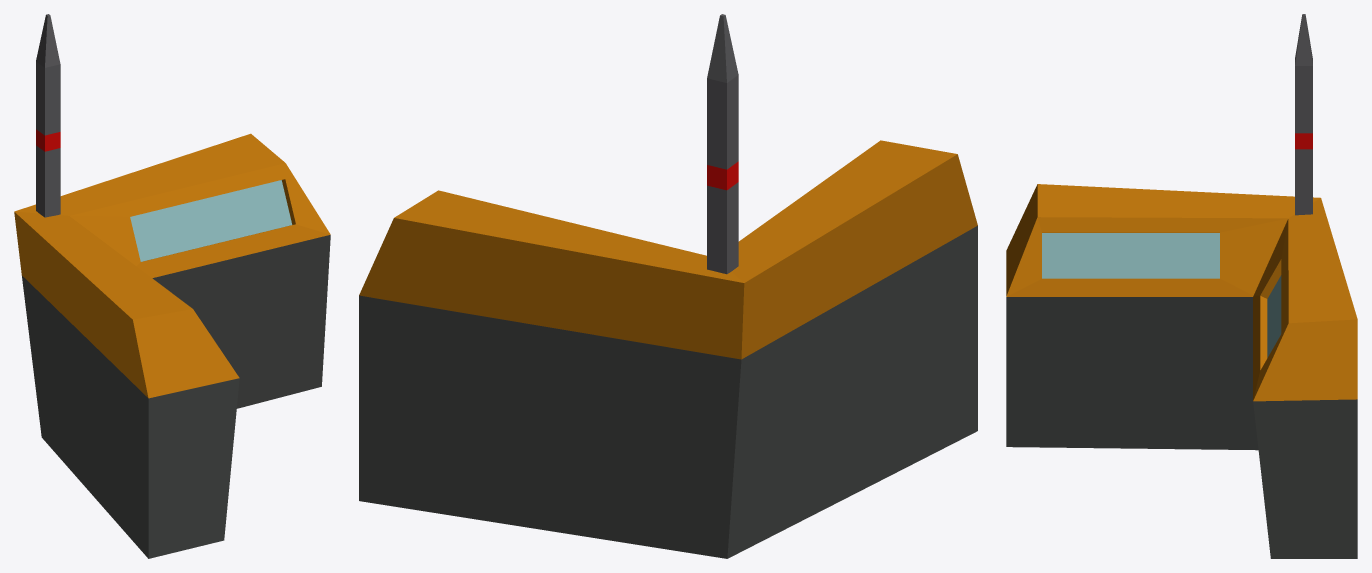
File: FinalPuzzle.fbx
3 views of the same model, side by side, from view 1: azimuth 30°, elevation 25°; view 2: azimuth 150°, elevation 25°; view 3: azimuth 270°, elevation 25° (orthographic). The views are drawn at different scales.
Parts seen in each view (by area): view 1: Cube.001; view 2: Cube.001; view 3: Cube.001.
Part boxes in pixels (x1,y1,x2,y2): Cube.001: (14,14,330,558); Cube.001: (359,14,977,558); Cube.001: (1006,14,1357,558).
Bounding box in the file's own units: 282 × 371 × 281.
